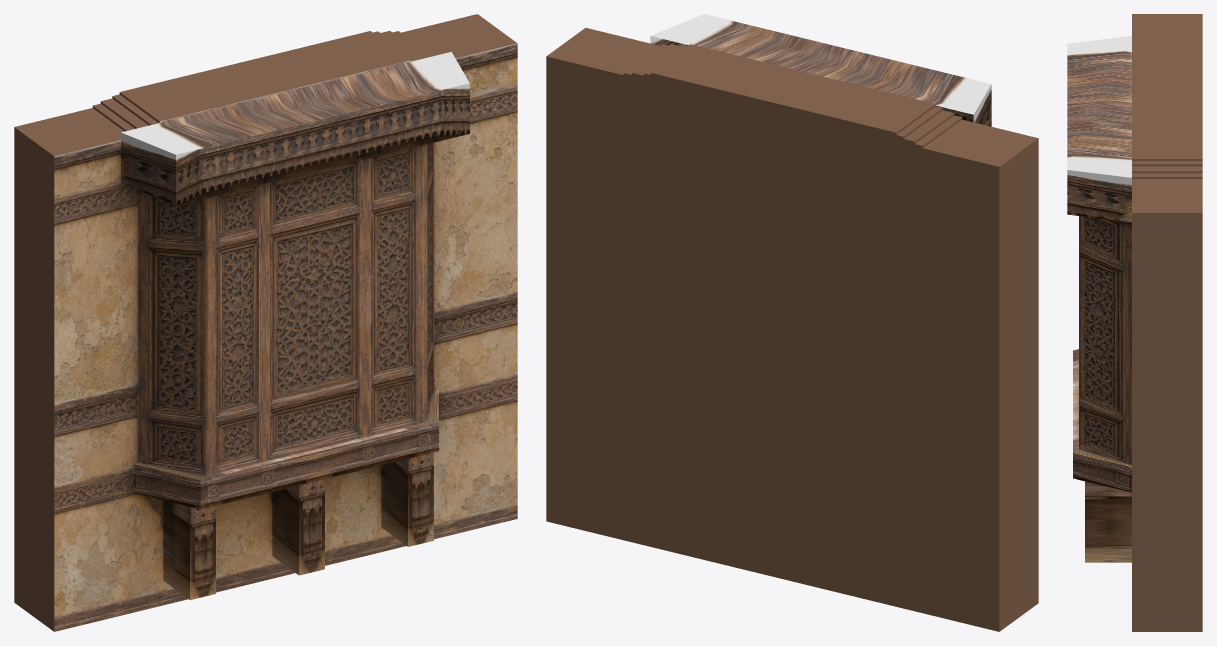
The model's file is cai_house_upper_bay.glb.
3 renders of one model, left to right at view 1: azimuth 30°, elevation 25°; view 2: azimuth 150°, elevation 25°; view 3: azimuth 270°, elevation 25°, orthographic. The views are drawn at different scales.
Parts seen in each view (by area): view 1: module; view 2: module; view 3: module.
Part boxes in pixels (left/top/right/bottom): module: left=14, top=14, right=517, bottom=631; module: left=546, top=14, right=1038, bottom=631; module: left=1067, top=14, right=1202, bottom=631.
Size of the model in its own units: 4 by 4 by 1.15.
Materials: 2 (1 with a texture image).
